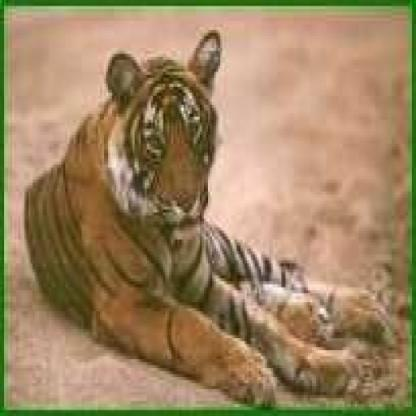Tiger: (26, 26, 394, 397)
